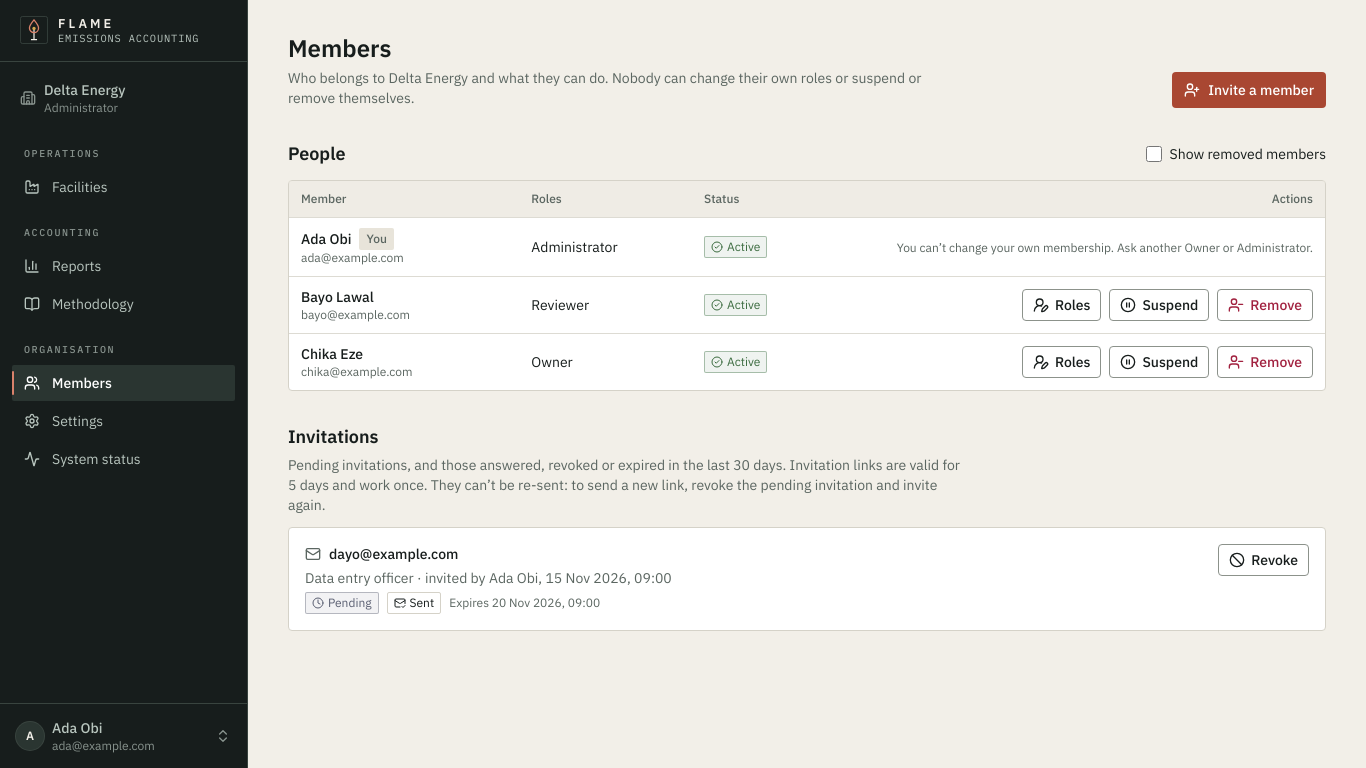
Test case: the members page › confirms removal with its consequences and reports the outcome
Click the button with aria-label "Remove Bayo Lawal".
click(1265, 304)  # box [1217,288,1313,320]
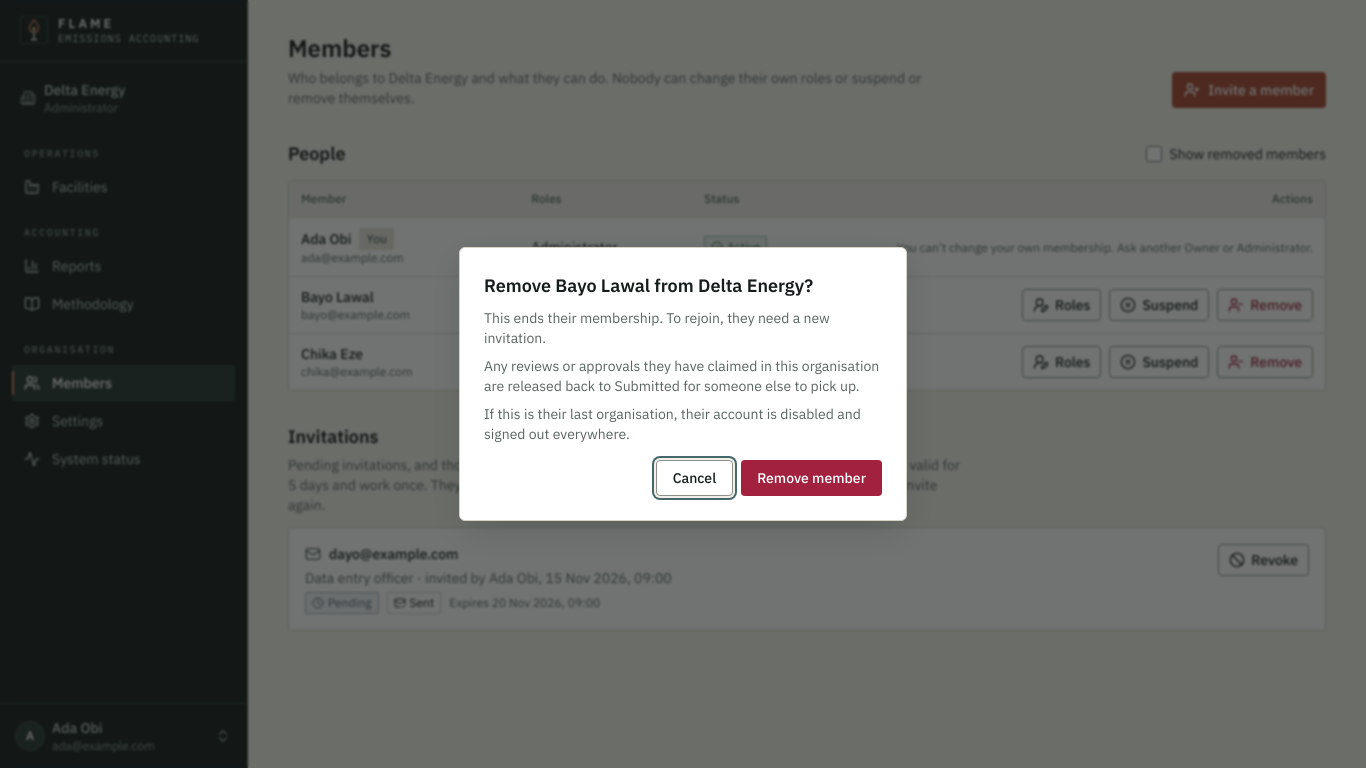
Expected: the dialog shows "To rejoin, they need a new invitation", [484,309,830,347]
Expected: the dialog shows "released back to Submitted", [484,357,879,395]
Expected: the dialog shows "their account is disabled", [484,405,861,443]
Click the button "Remove member".
click(812, 478)  # box [741,460,882,496]
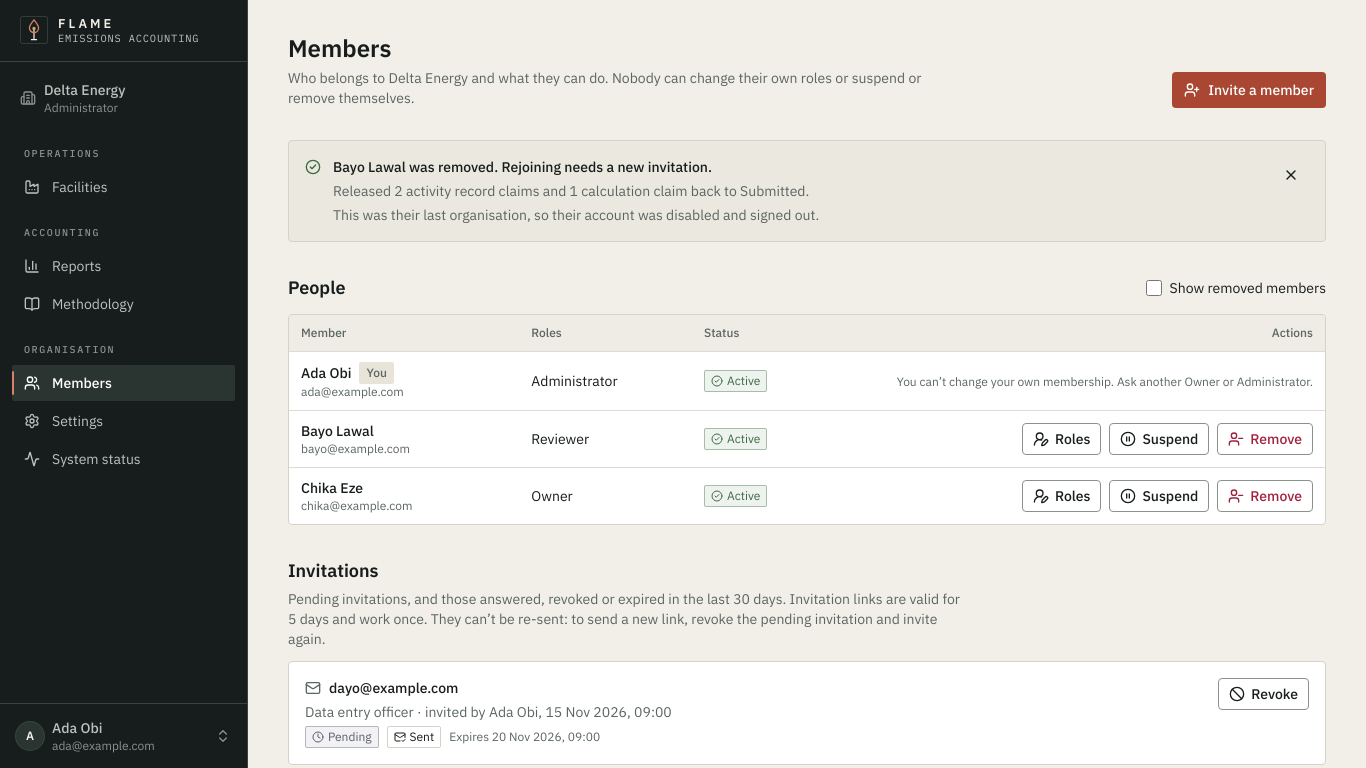
Expected: the text "Bayo Lawal was removed" shows "Released 2 activity record claims and 1 calculation claim back to Submitted.", [333,182,809,200]
Expected: the text "Bayo Lawal was removed" shows "their account was disabled", [333,206,819,224]
